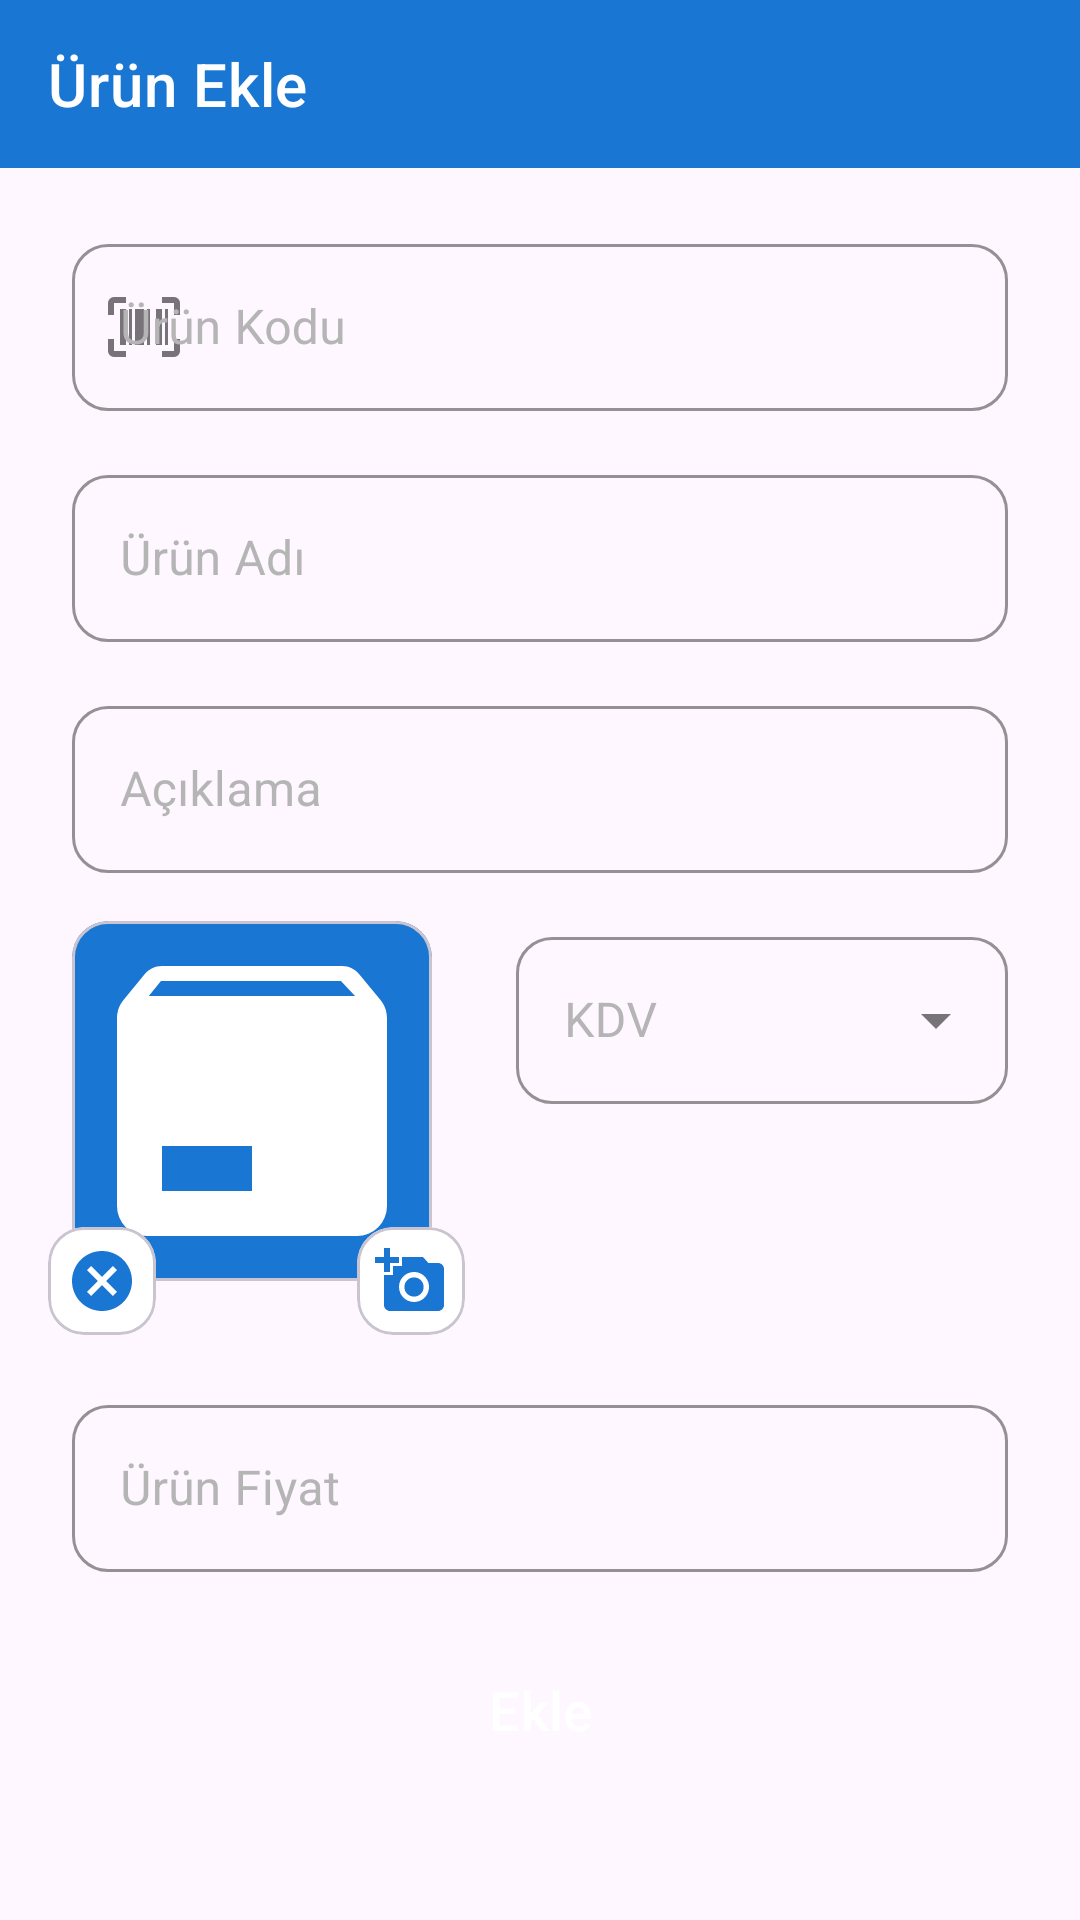

Point at icon controls on the screen. Image size 1080x1920, points as point (x, y).
camera plus: point (409, 1279)
close circle: point (102, 1281)
